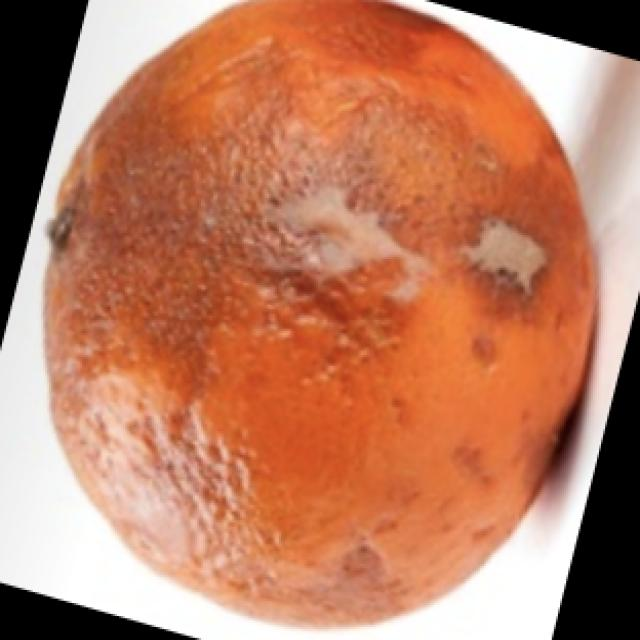sedikit_busuk: (51, 0, 592, 622)
